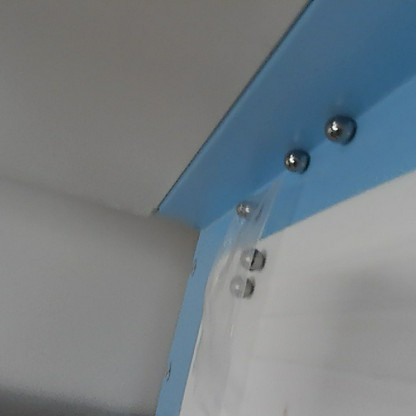ironball: (321, 111, 360, 145), (282, 146, 313, 178), (227, 271, 255, 304), (238, 240, 267, 269), (242, 200, 263, 222), (231, 198, 243, 215)
